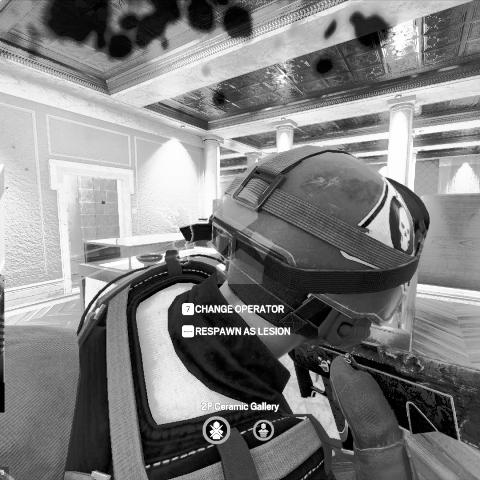Character: (0, 143, 445, 480)
Head: (210, 145, 433, 348)
